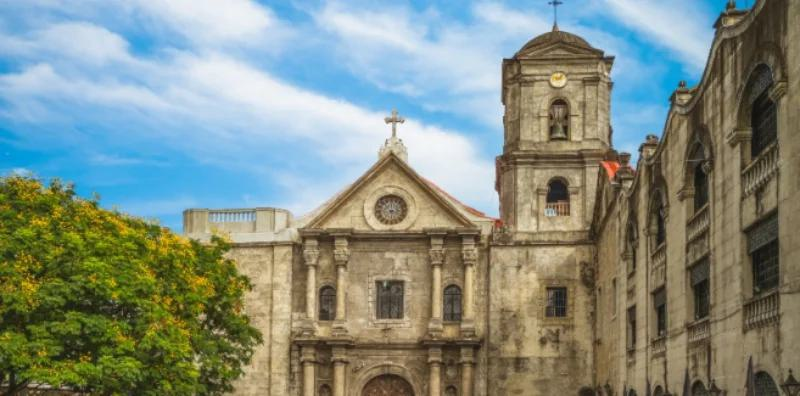san_agustin_church_intramuros_manila: (293, 1, 619, 396)
